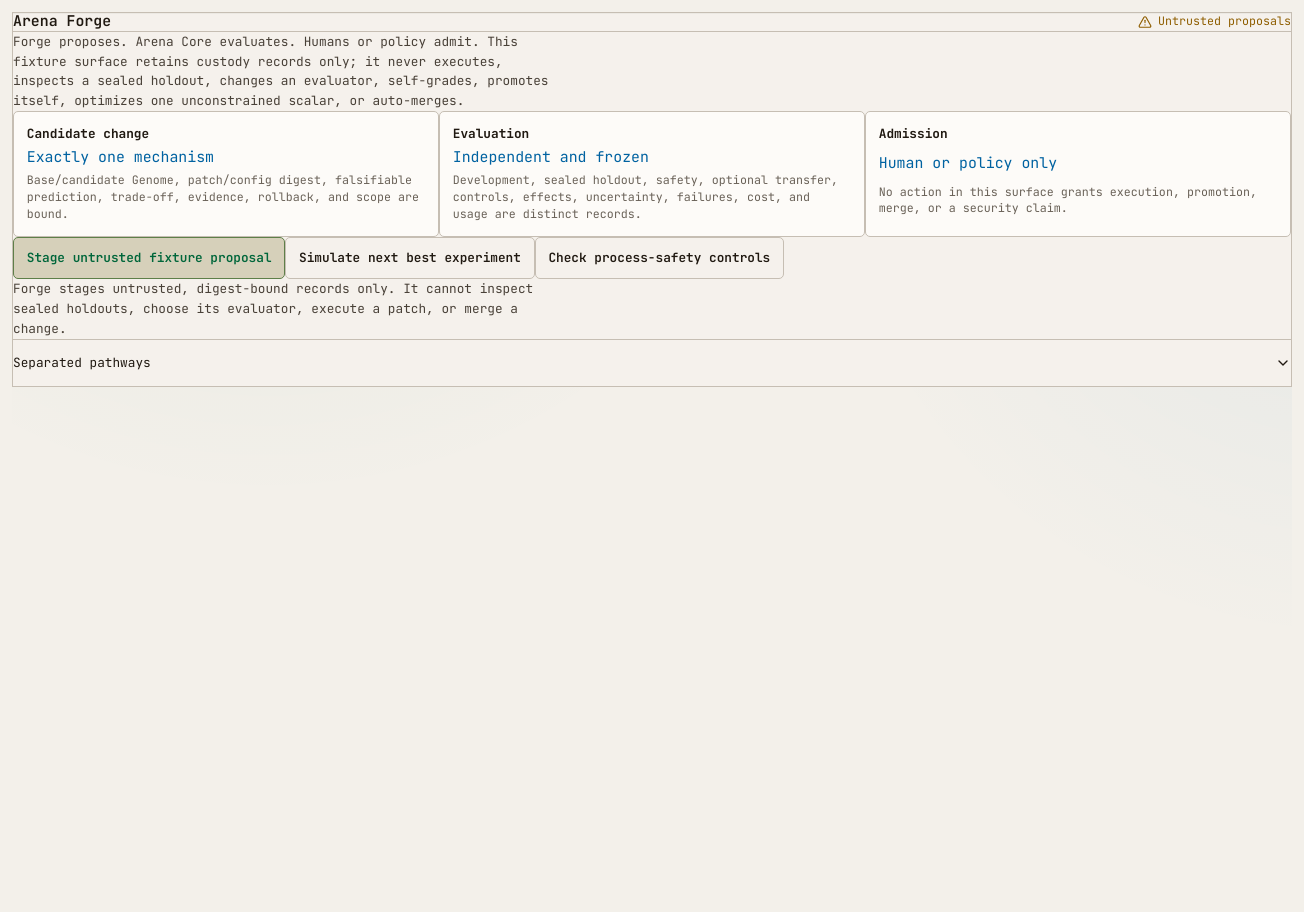
Scenario: ForgeSurface › renders ranked budget/risk designs and digest-only process-safety checks accessibly
The width and height of the screenshot is (1304, 912).
Step 1. Click the button "Simulate next best experiment" → (410,258), box [285, 237, 535, 279]
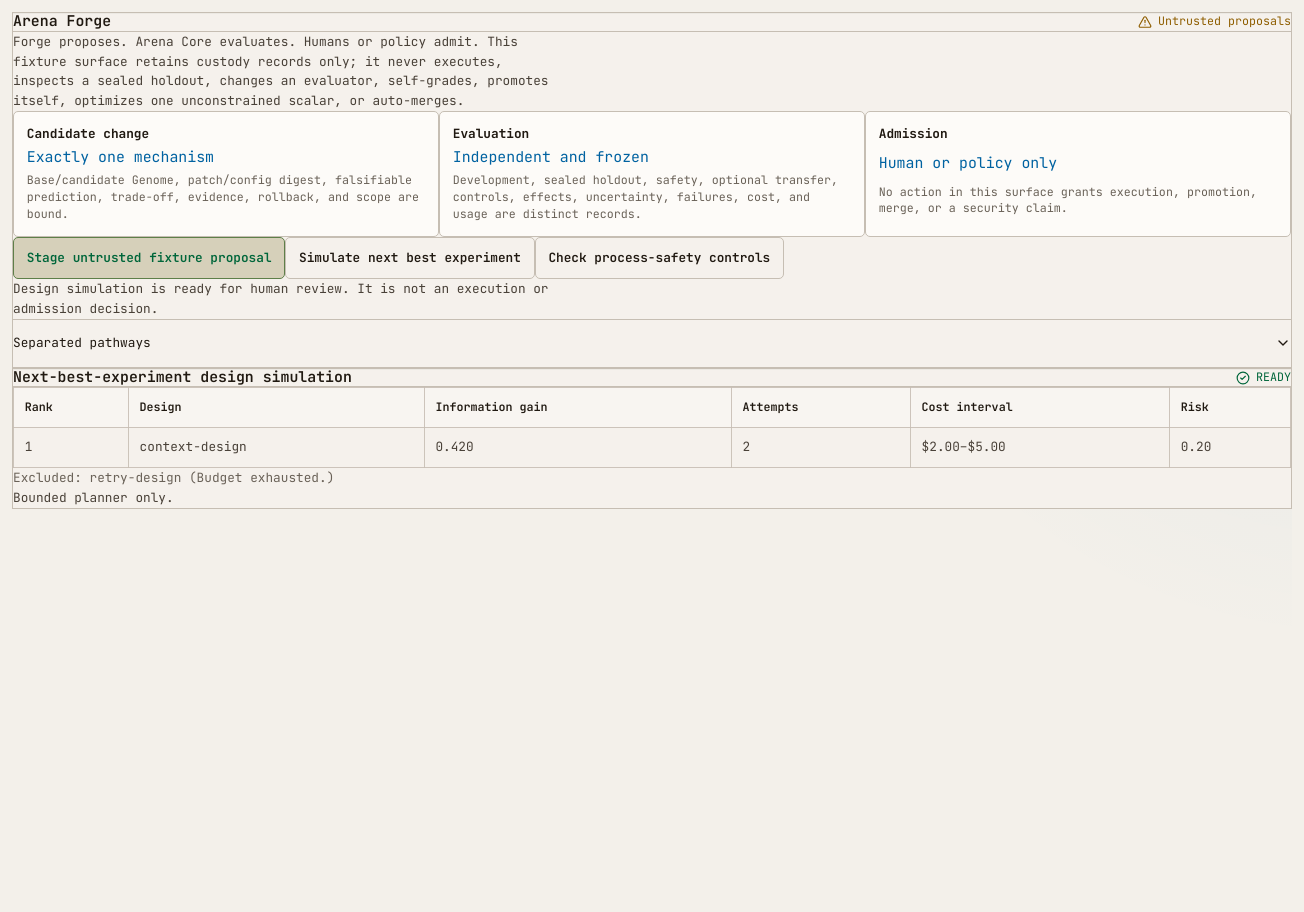
Now the table named "Ranked constrained experiment designs" is shown, box [13, 387, 1291, 468]
Now the text "Excluded: retry-design (Budget exhausted.)" is shown, box [13, 469, 334, 486]
Step 2. Click the button "Check process-safety controls" → (659,258), box [535, 237, 784, 279]
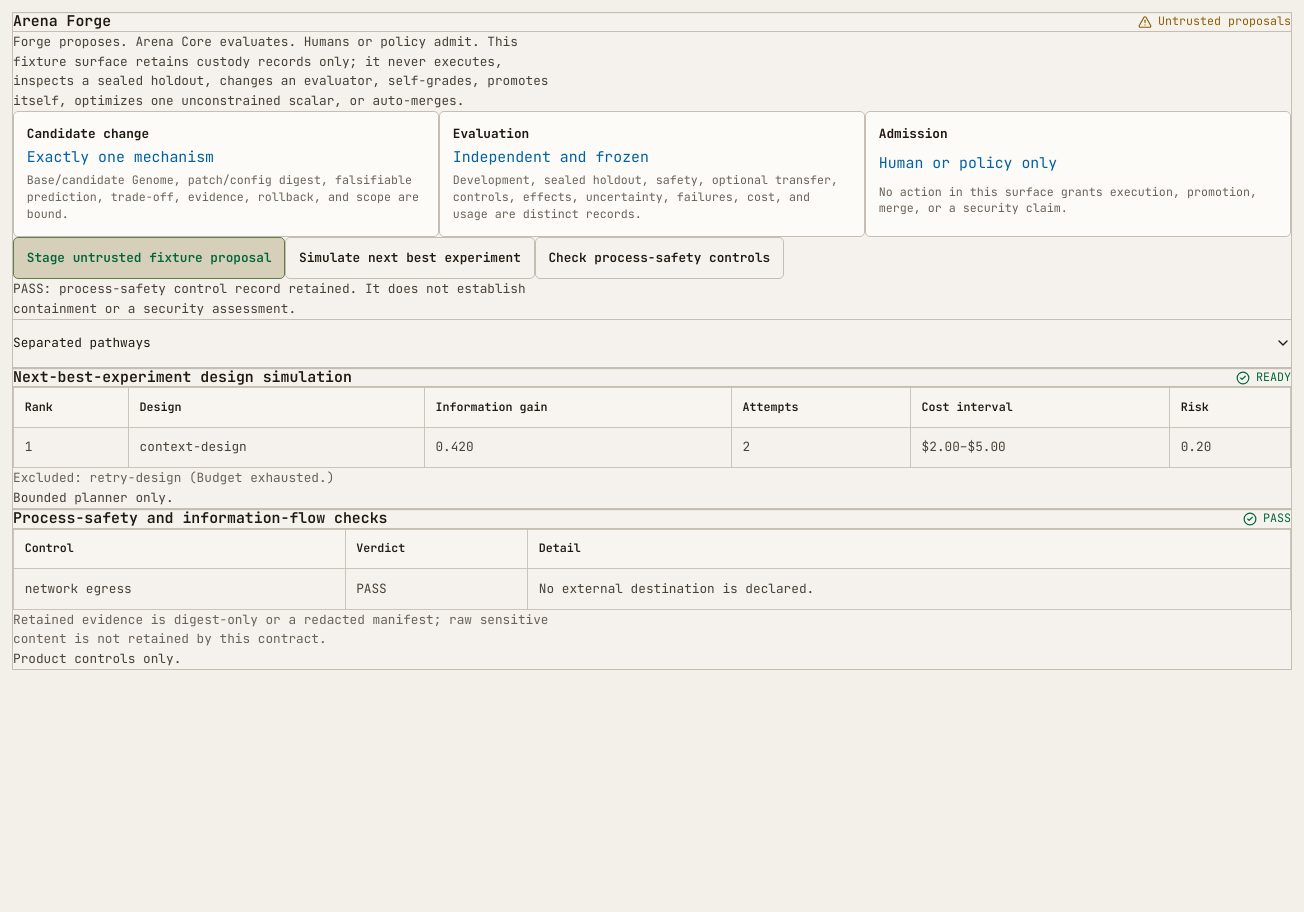
Now the table named "Process-safety checks" is shown, box [13, 529, 1291, 610]
Now the text "raw sensitive content is not retained" is shown, box [13, 611, 548, 647]
